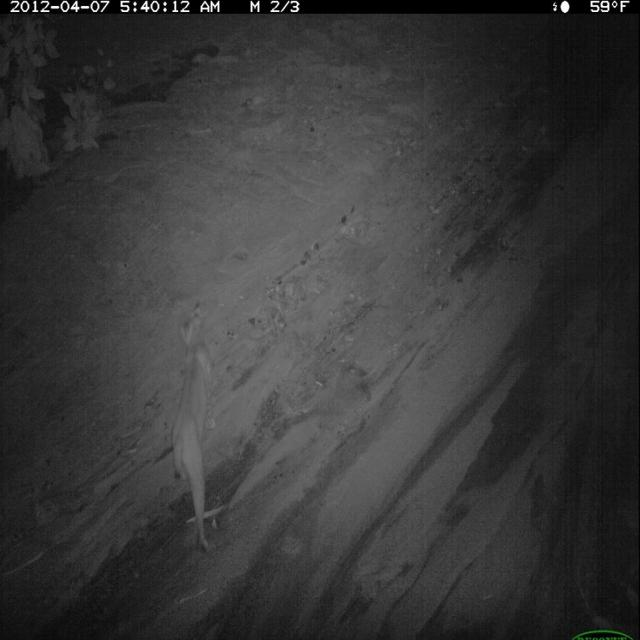bobcat: (168, 307, 222, 556)
